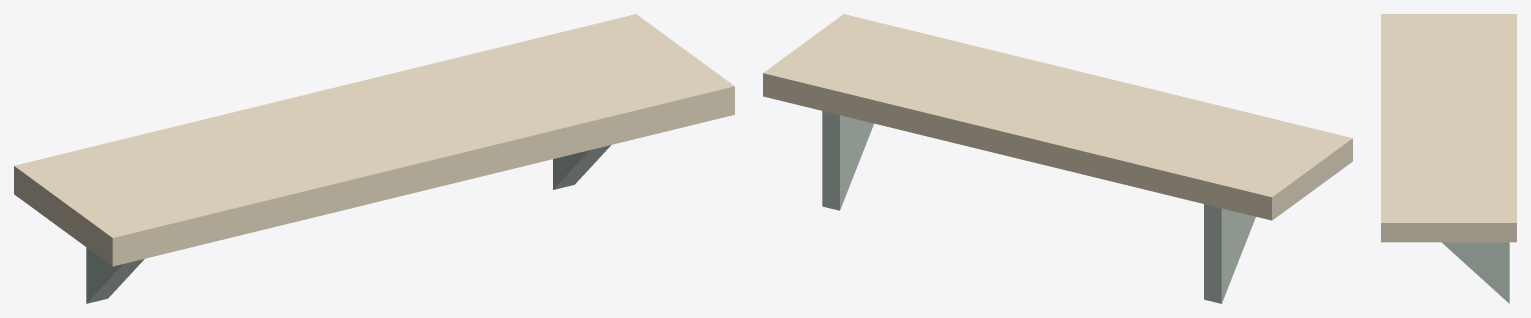
The model's file is shelf_wall_1tier.glb.
3 renders of one model, left to right at view 1: azimuth 30°, elevation 25°; view 2: azimuth 150°, elevation 25°; view 3: azimuth 270°, elevation 25°, orthographic. The views are drawn at different scales.
Parts seen in each view (by area): view 1: p0, p1, p2; view 2: p0, p2, p1; view 3: p0, p2.
Boxes of the visible parts, x1=… form: p0: x1=14, y1=14, x2=734, y2=266; p1: x1=86, y1=247, x2=144, y2=303; p2: x1=553, y1=145, x2=610, y2=189; p0: x1=763, y1=14, x2=1352, y2=220; p2: x1=822, y1=111, x2=873, y2=210; p1: x1=1204, y1=204, x2=1255, y2=303; p0: x1=1381, y1=14, x2=1516, y2=242; p2: x1=1442, y1=242, x2=1509, y2=303.
Size of the model in its own units: 0.8 by 0.185 by 0.22.
